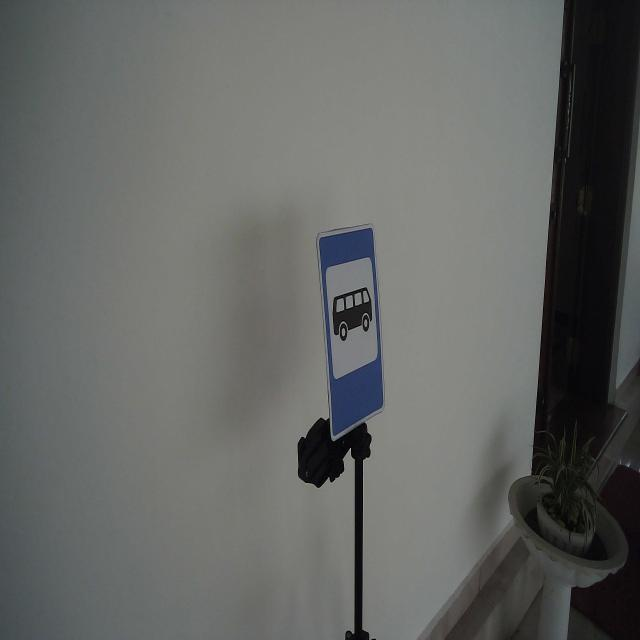bus_stop: (316, 223, 388, 445)
